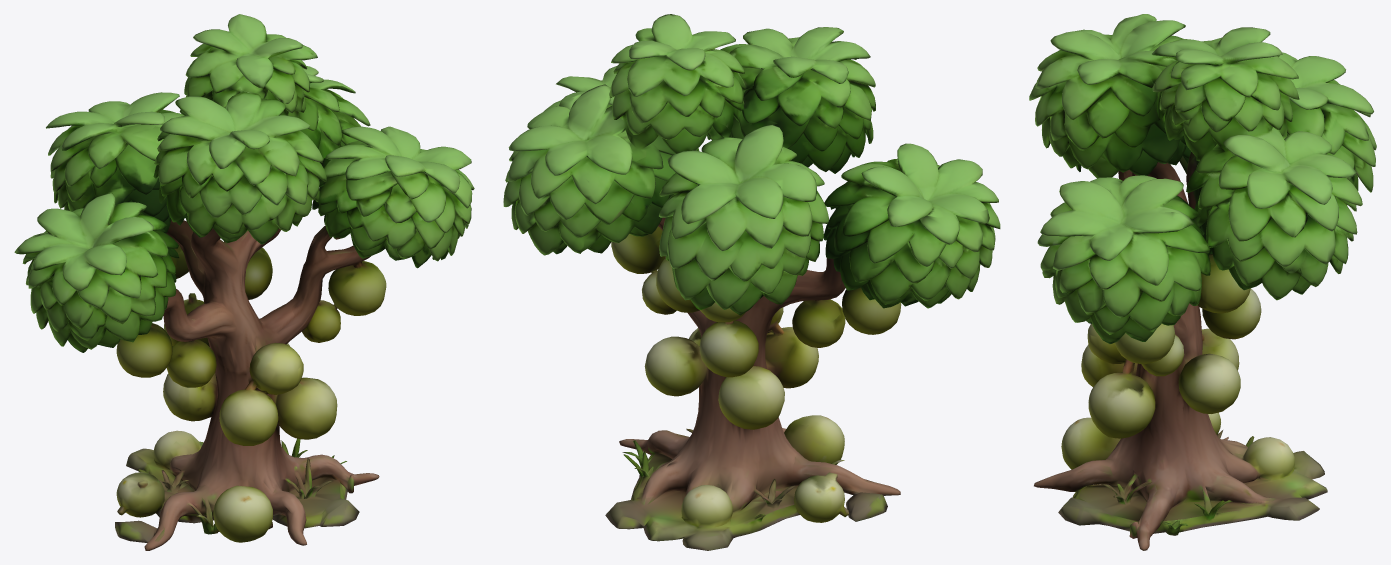
The model's file is Arbol de totumo.fbx.
The picture shows the model from 3 angles, left to right: view 1: azimuth 30°, elevation 25°; view 2: azimuth 150°, elevation 25°; view 3: azimuth 270°, elevation 25°; orthographic projection. The views are drawn at different scales.
Parts seen in each view (by area): view 1: Mesh_0; view 2: Mesh_0; view 3: Mesh_0.
Part boxes in pixels (bbox=[...]): Mesh_0: bbox=[14, 14, 474, 550]; Mesh_0: bbox=[503, 14, 1000, 550]; Mesh_0: bbox=[1029, 14, 1376, 550].
Size of the model in its own units: 101 by 101 by 67.52.
Materials: 1 (1 with a texture image).
